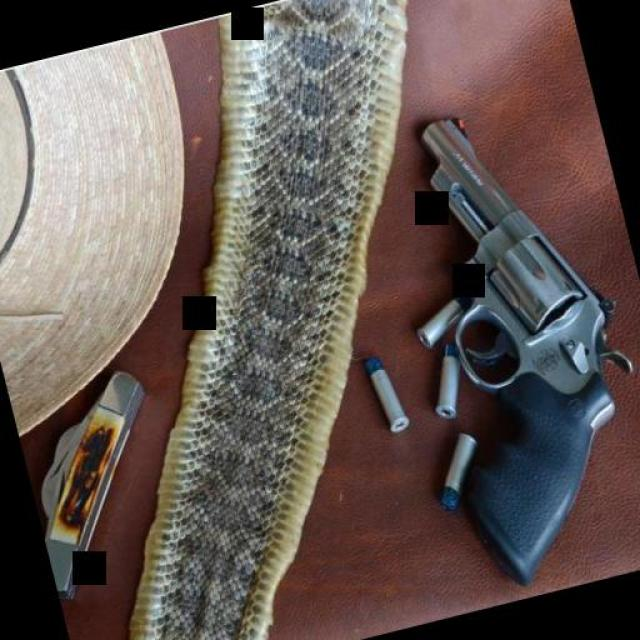gun: (359, 54, 640, 588)
